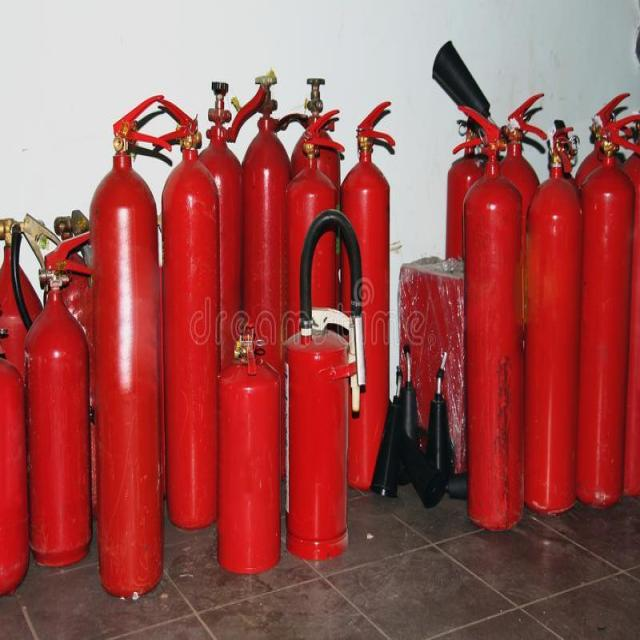fire_extinguisher: (87, 86, 172, 603), (233, 64, 306, 527), (275, 200, 366, 565), (425, 31, 495, 503), (190, 68, 260, 532), (153, 78, 224, 533), (452, 101, 526, 532), (567, 90, 639, 512), (341, 91, 408, 496), (282, 107, 350, 499), (516, 112, 580, 520), (22, 224, 96, 574), (207, 320, 286, 577), (0, 207, 50, 545), (0, 301, 34, 610)
